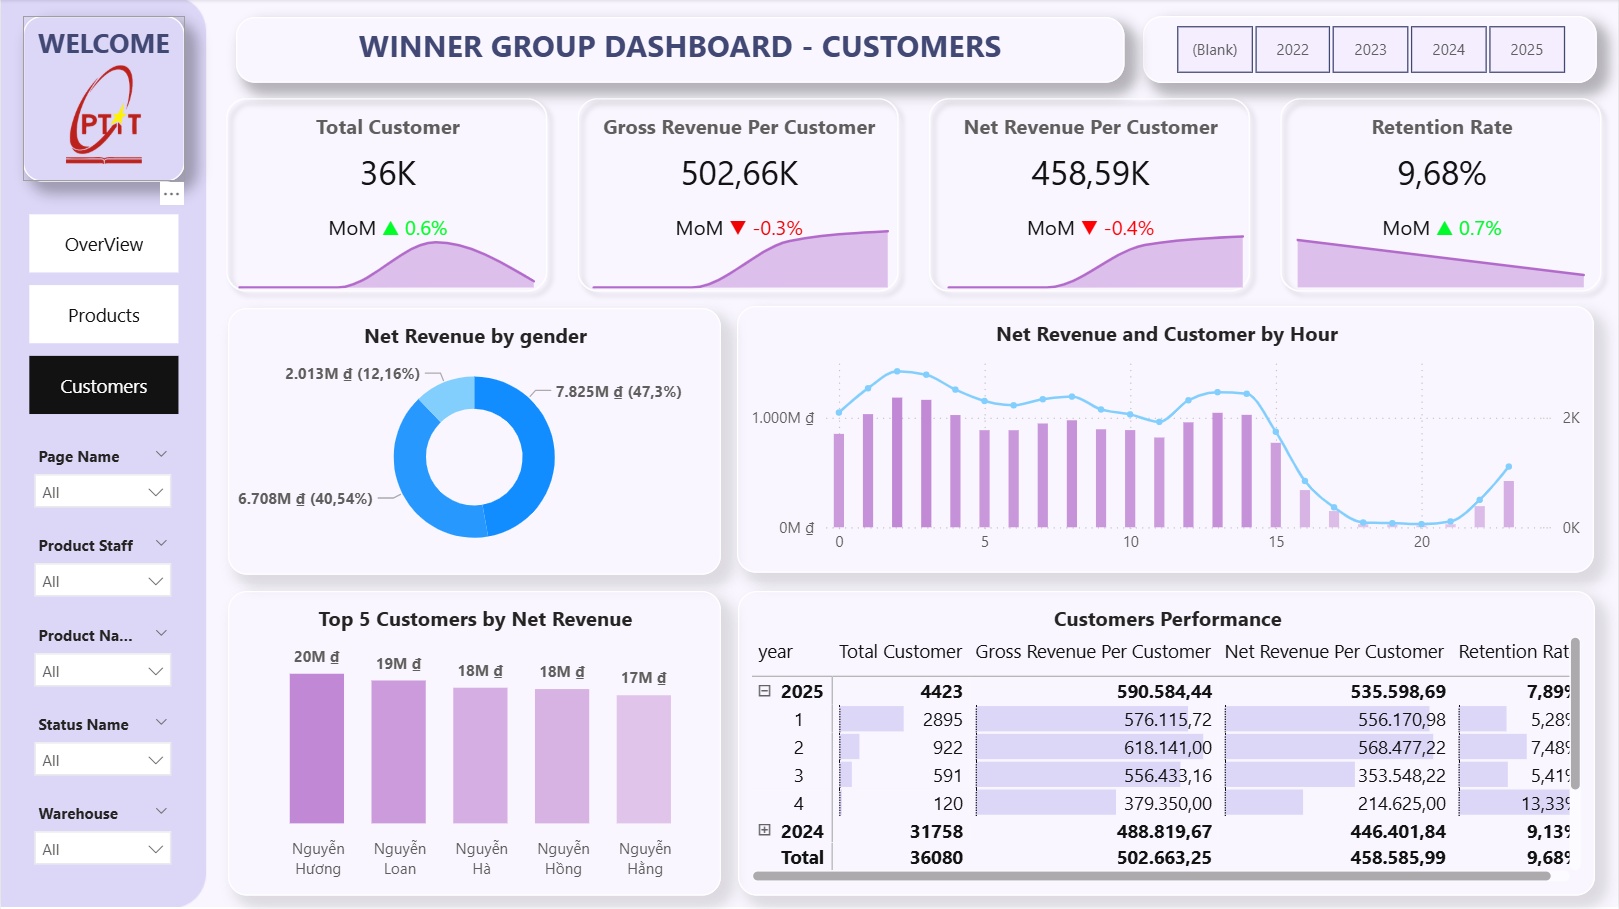

What the dashboard file says about the page in this screenshot:
{"tool":"powerbi","page":{"name":"Customers","canvas":[1280,720],"ordinal":2},"visuals":[{"type":"slicer","fields":{"Values":["winner_gold dim_date.year"]},"box":[903.5,13.7,358.7,52.6],"z":0},{"type":"slicer","fields":{"Values":["winner_gold dim_order_pages.page_name"]},"box":[16.7,348.5,127.9,70.4],"z":1000},{"type":"textbox","box":[17.2,13.6,128,130.7],"z":2000},{"type":"pageNavigator","box":[17.2,165.2,128,168.9],"z":3000},{"type":"slicer","fields":{"Values":["winner_gold dim_products.category_name"]},"box":[16.7,418.9,127.9,70.4],"z":4000},{"type":"slicer","fields":{"Values":["winner_gold dim_products.name"]},"box":[16.7,489.4,127.9,70.4],"z":5000},{"type":"slicer","fields":{"Values":["winner_gold fact_orders.status_name"]},"box":[16.7,559.8,127.9,70.4],"z":6000},{"type":"slicer","fields":{"Values":["winner_gold dim_order_warehouses.warehouse_name.2"]},"box":[16.7,630.3,127.9,70.4],"z":7000},{"type":"textbox","box":[186.1,14.3,702.7,51.5],"z":8000},{"type":"cardVisual","fields":{"Data":["Customers_Measures.Total Customer","Customers_Measures.Gross Revenue Per Customer","Customers_Measures.Revenue Per Customer","Customers_Measures.Retention Rate"]},"box":[166.2,66.1,1113.8,177.2],"z":9000},{"type":"image","box":[17.2,39.9,128,104.4],"z":10000},{"type":"areaChart","fields":{"Category":["winner_gold dim_date.year"],"Y":["Customers_Measures.Total Customer"]},"box":[179.1,174.1,252.8,55.2],"z":11000},{"type":"donutChart","fields":{"Category":["winner_gold dim_customers.gender"],"Y":["Overview_Measures.Net Revenue"]},"box":[179.5,244.5,389.7,211.1],"z":12000},{"type":"areaChart","fields":{"Category":["winner_gold dim_date.year"],"Y":["Customers_Measures.Gross Revenue Per Customer"]},"box":[458.7,174.1,252.8,55.2],"z":13000},{"type":"areaChart","fields":{"Category":["winner_gold dim_date.year"],"Y":["Customers_Measures.Net Revenue Per Customer"]},"box":[739.9,174.1,252.8,55.2],"z":14000},{"type":"areaChart","fields":{"Category":["winner_gold dim_date.year"],"Y":["Customers_Measures.Retention Rate"]},"box":[1015.6,173.6,246.4,54.9],"z":15000},{"type":"clusteredColumnChart","title":"Top 5 Products by Net Revenue","fields":{"Category":["winner_gold dim_customers.name"],"Y":["Overview_Measures.Net Revenue"]},"box":[179.5,468.2,389.7,240.8],"z":16000},{"type":"lineClusteredColumnComboChart","title":"Net Revenue and Customer by Hour","fields":{"Category":["winner_gold fact_orders.Hour"],"Y":["Overview_Measures.Net Revenue"],"Y2":["CountNonNull(winner_gold fact_orders.customer_id)"]},"box":[582.7,242.6,678.3,211.1],"z":17000},{"type":"pivotTable","title":"Customers Performance","fields":{"Rows":["winner_gold dim_date.year","winner_gold dim_date.month"],"Values":["Customers_Measures.Total Customer","Customers_Measures.Gross Revenue Per Customer","Customers_Measures.Net Revenue Per Customer","Customers_Measures.Retention Rate"]},"box":[583,468.3,678.2,240.6],"z":18000}]}

Visuals, with their boxes on the page's 1280x720 design canvas (x1, y1, x2, y2). These are canvas units, not pixel positions in the 1619x909 screenshot, which may show the page scaled, cropped or inside an application window:
slicer - winner_gold dim_date.year: [904,14,1262,66]
slicer - winner_gold dim_order_pages.page_name: [17,348,145,419]
textbox: [17,14,145,144]
pageNavigator: [17,165,145,334]
slicer - winner_gold dim_products.category_name: [17,419,145,489]
slicer - winner_gold dim_products.name: [17,489,145,560]
slicer - winner_gold fact_orders.status_name: [17,560,145,630]
slicer - winner_gold dim_order_warehouses.warehouse_name.2: [17,630,145,701]
textbox: [186,14,889,66]
cardVisual - Customers_Measures.Total Customer x Customers_Measures.Gross Revenue Per Customer: [166,66,1280,243]
image: [17,40,145,144]
areaChart - winner_gold dim_date.year x Customers_Measures.Total Customer: [179,174,432,229]
donutChart - winner_gold dim_customers.gender x Overview_Measures.Net Revenue: [180,244,569,456]
areaChart - winner_gold dim_date.year x Customers_Measures.Gross Revenue Per Customer: [459,174,712,229]
areaChart - winner_gold dim_date.year x Customers_Measures.Net Revenue Per Customer: [740,174,993,229]
areaChart - winner_gold dim_date.year x Customers_Measures.Retention Rate: [1016,174,1262,228]
"Top 5 Products by Net Revenue" clusteredColumnChart: [180,468,569,709]
"Net Revenue and Customer by Hour" lineClusteredColumnComboChart: [583,243,1261,454]
"Customers Performance" pivotTable: [583,468,1261,709]
